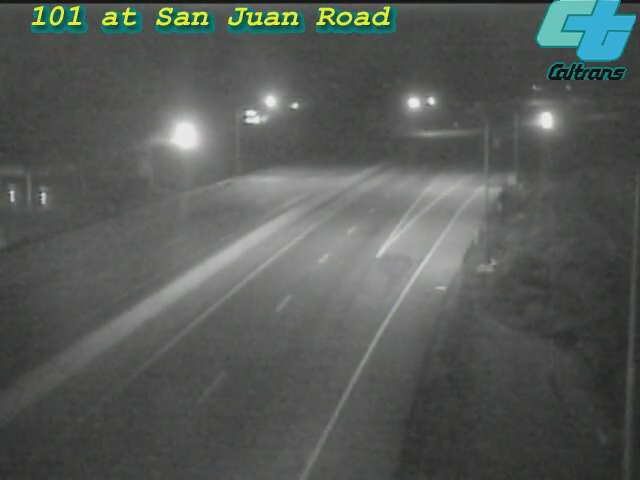vehicle: (520, 95, 570, 145)
